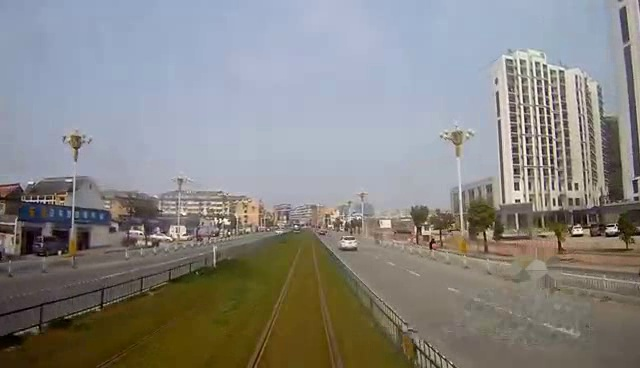car: (338, 233, 361, 254)
